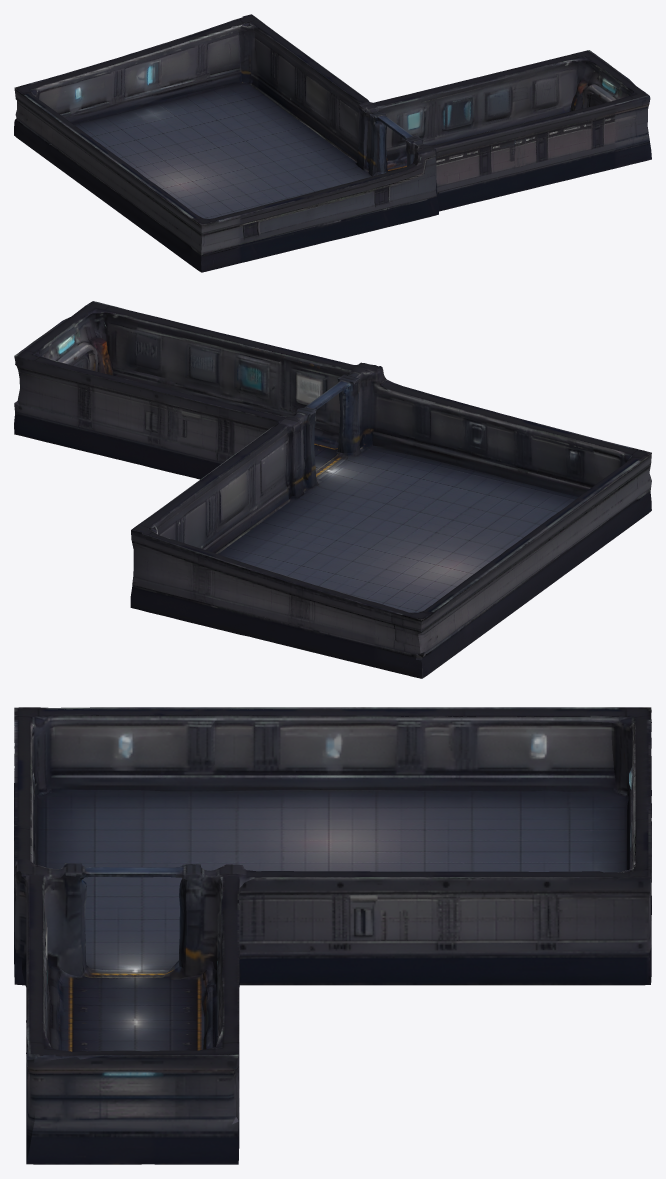
File: Meshy_AI_B_1_Hangar_0516082408_texture.fbx
3 renders of one model, top to bottom at view 1: azimuth 30°, elevation 25°; view 2: azimuth 150°, elevation 25°; view 3: azimuth 270°, elevation 25°, orthographic. The views are drawn at different scales.
Visible parts, largest first — view 1: Mesh0; view 2: Mesh0; view 3: Mesh0.
Part boxes in pixels (x1=…): Mesh0: x1=14, y1=14, x2=651, y2=272; Mesh0: x1=14, y1=301, x2=651, y2=678; Mesh0: x1=14, y1=707, x2=651, y2=1164.
Bounding box in the file's own units: 191 × 26.17 × 137.
Materials: 1 (1 with a texture image).
